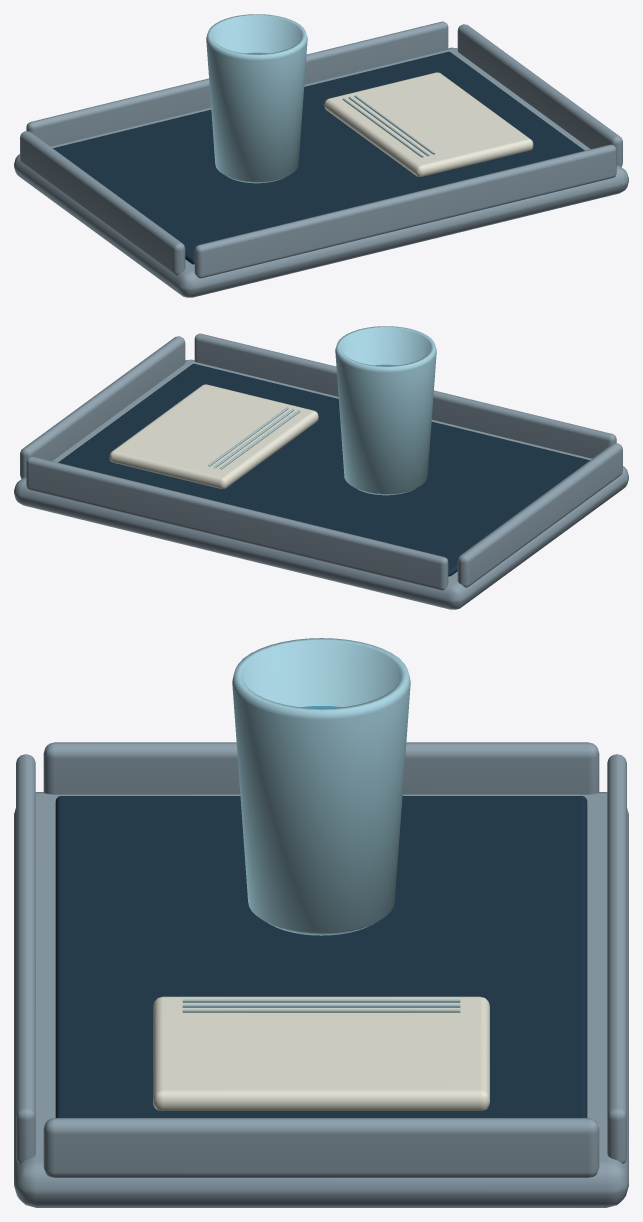
File: water.glb
The picture shows the model from 3 angles, top to bottom: view 1: azimuth 30°, elevation 25°; view 2: azimuth 150°, elevation 25°; view 3: azimuth 270°, elevation 25°; orthographic projection. The views are drawn at different scales.
Visible parts, largest first — view 1: Service water; view 2: Service water; view 3: Service water.
Boxes of the visible parts, x1=… form: Service water: x1=14, y1=14, x2=628, y2=297; Service water: x1=14, y1=326, x2=628, y2=609; Service water: x1=14, y1=638, x2=628, y2=1207.
Bounding box in the file's own units: 0.46 × 0.1625 × 0.31.
